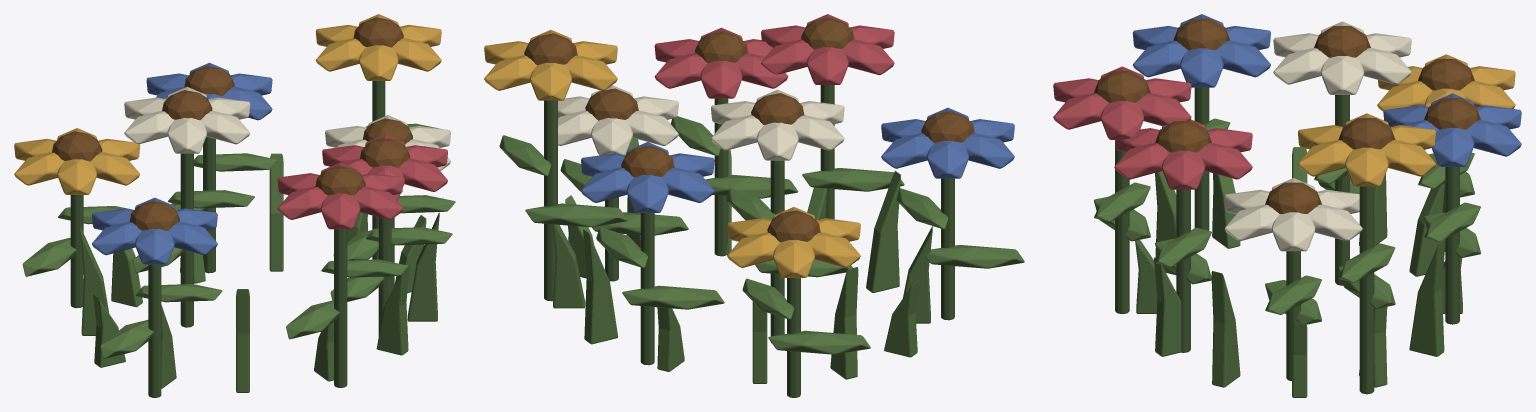
File: Flower_WildPatch.fbx
3 views of the same model, side by side, from view 1: azimuth 30°, elevation 25°; view 2: azimuth 150°, elevation 25°; view 3: azimuth 270°, elevation 25° (orthographic). The views are drawn at different scales.
Visible parts, largest first — view 1: Wildflower 8 stem.001, Wildflower ground leaf.023, Wildflower ground leaf.022, Wildflower 1 stem.001, Wildflower 2 stem.001, Wildflower ground leaf.017, Wildflower ground leaf.014, Wildflower ground leaf.020, Wildflower 5 stem.001, Wildflower ground leaf.016, Wildflower 1 low leaf.001, Wildflower 5 low leaf.001 (+58 smaller); view 2: Wildflower ground leaf.020, Wildflower ground leaf.014, Wildflower 4 stem.001, Wildflower ground leaf.013, Wildflower 6 stem.001, Wildflower ground leaf.017, Wildflower 6 low leaf.001, Wildflower 5 low leaf.001, Wildflower 4 low leaf.001, Wildflower 1 low leaf.001, Wildflower 8 low leaf.001, Wildflower ground leaf.018 (+68 smaller); view 3: Wildflower 4 stem.001, Wildflower ground leaf.014, Wildflower ground leaf.023, Wildflower ground leaf.022, Wildflower 6 stem.001, Wildflower 8 stem.001, Wildflower 3 stem.001, Wildflower ground leaf.016, Wildflower 7 petal.006, Wildflower 4 petal.006, Wildflower 3 petal.006, Wildflower 2 petal.006 (+62 smaller).
Part boxes in pixels (x1,y1,x2,y2): Wildflower 8 stem.001: (334,229,347,387); Wildflower ground leaf.023: (407,212,439,321); Wildflower ground leaf.022: (376,265,409,355); Wildflower 1 stem.001: (148,264,161,397); Wildflower 2 stem.001: (180,153,193,327); Wildflower ground leaf.017: (80,227,109,335); Wildflower ground leaf.014: (269,153,283,271); Wildflower ground leaf.020: (236,289,249,392); Wildflower 5 stem.001: (70,195,83,308); Wildflower ground leaf.016: (111,248,142,307); Wildflower 1 low leaf.001: (100,320,154,358); Wildflower 5 low leaf.001: (22,237,76,276); Wildflower ground leaf.020: (866,171,900,292); Wildflower ground leaf.014: (583,229,618,344); Wildflower 4 stem.001: (544,100,557,301); Wildflower ground leaf.013: (552,224,585,308); Wildflower 6 stem.001: (640,213,654,365); Wildflower ground leaf.017: (830,267,858,379); Wildflower 6 low leaf.001: (622,285,724,309); Wildflower 5 low leaf.001: (768,330,870,354); Wildflower 4 low leaf.001: (525,203,627,227); Wildflower 1 low leaf.001: (925,245,1024,268); Wildflower 8 low leaf.001: (802,168,904,191); Wildflower ground leaf.018: (884,280,918,357); Wildflower 4 stem.001: (1359,186,1374,394); Wildflower ground leaf.014: (1409,238,1445,356); Wildflower ground leaf.023: (1211,271,1240,387); Wildflower ground leaf.022: (1154,257,1181,356); Wildflower 6 stem.001: (1445,167,1459,324); Wildflower 8 stem.001: (1115,144,1129,314); Wildflower 3 stem.001: (1176,189,1190,352); Wildflower ground leaf.016: (1409,183,1444,276); Wildflower 7 petal.006: (1272,212,1315,251); Wildflower 4 petal.006: (1345,147,1388,186); Wildflower 3 petal.006: (1162,150,1205,189); Wildflower 2 petal.006: (1320,56,1364,94).
Bounding box in the file's own units: 1.76 × 0.98 × 1.53.
